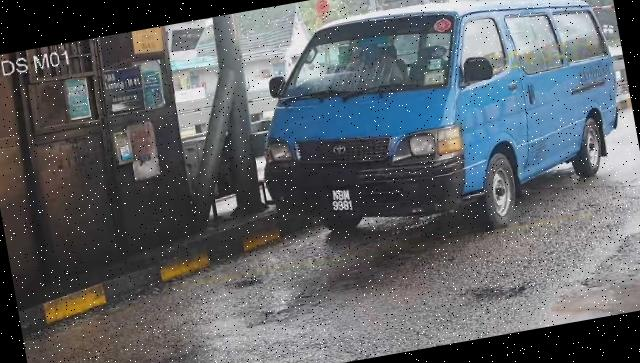License_Plate: (324, 182, 359, 219)
van: (241, 1, 639, 266)
